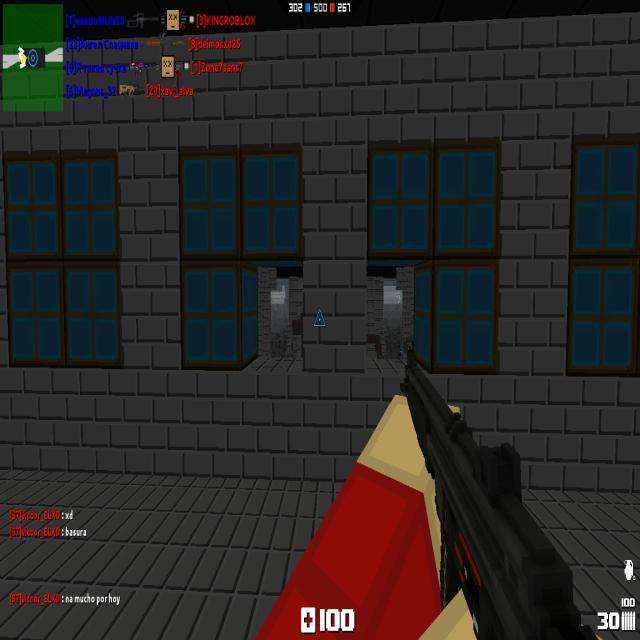enemy: (396, 291, 401, 305), (399, 344, 403, 359)
